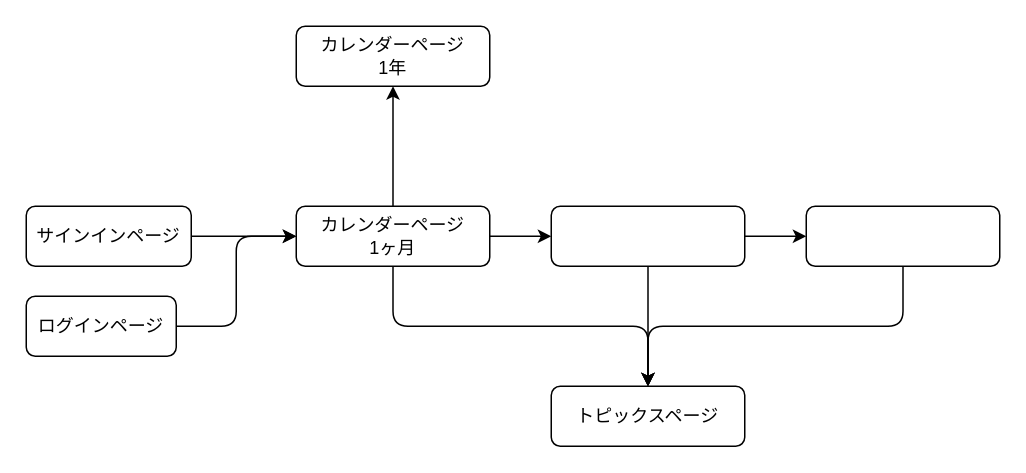
Image size: 1026x473. Some labels were removed from this diagram. The shapes that lost their labels are listed below. From the top down, each one's centre as x and y in pixels, then its label:
At (x=647, y=235): "カレンダーページ 1週間".
At (x=902, y=235): "カレンダーページ 1日".
